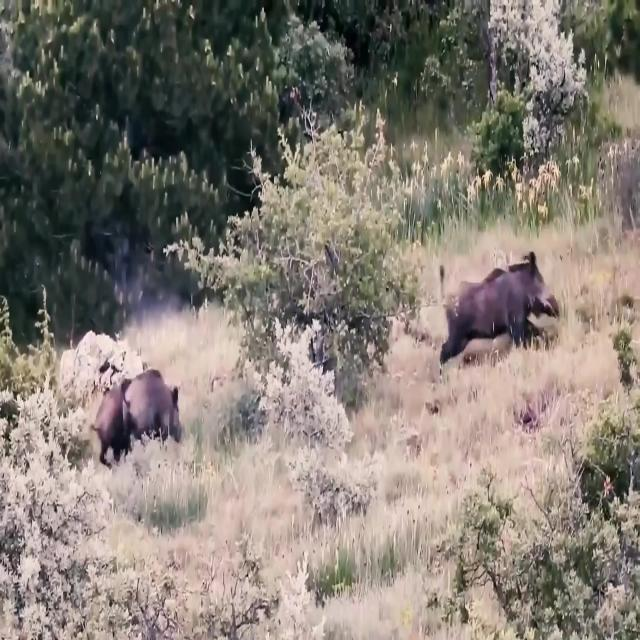pig: (81, 334, 190, 489)
